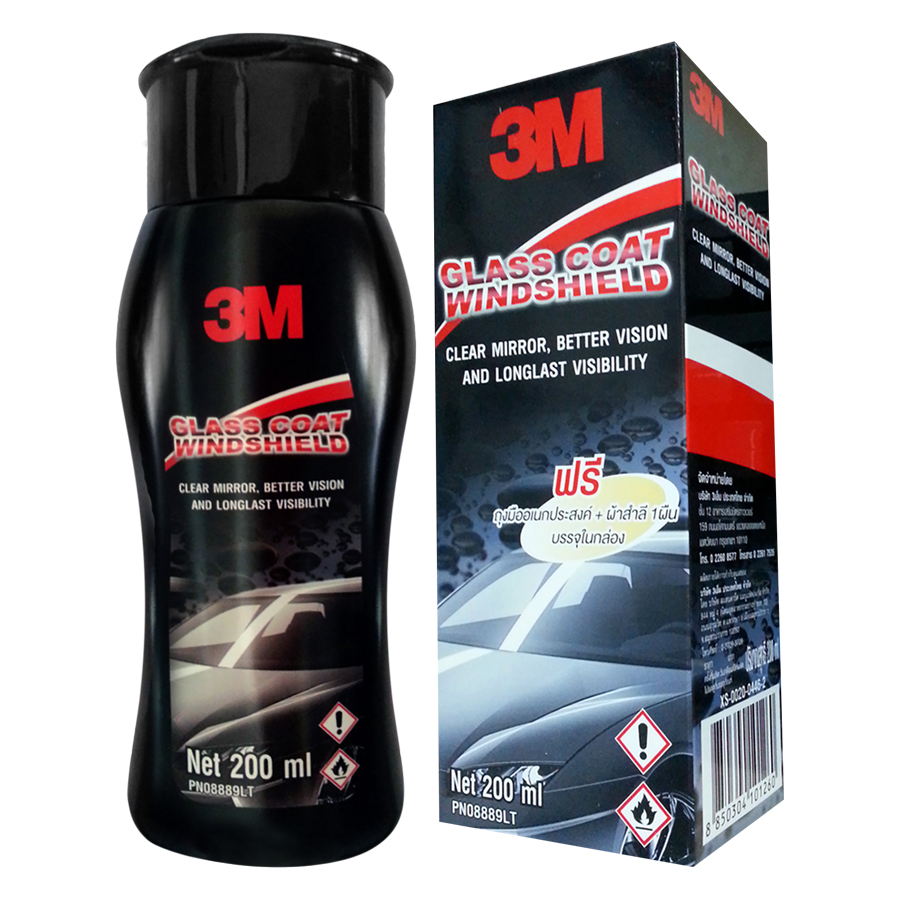3M: (489, 83, 610, 185), (187, 274, 325, 350), (686, 58, 729, 140)
